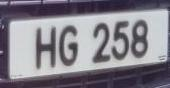2: (89, 17, 112, 69)
5: (111, 16, 131, 66)
8: (130, 15, 151, 65)
G: (58, 20, 82, 72)
H: (32, 22, 60, 75)
